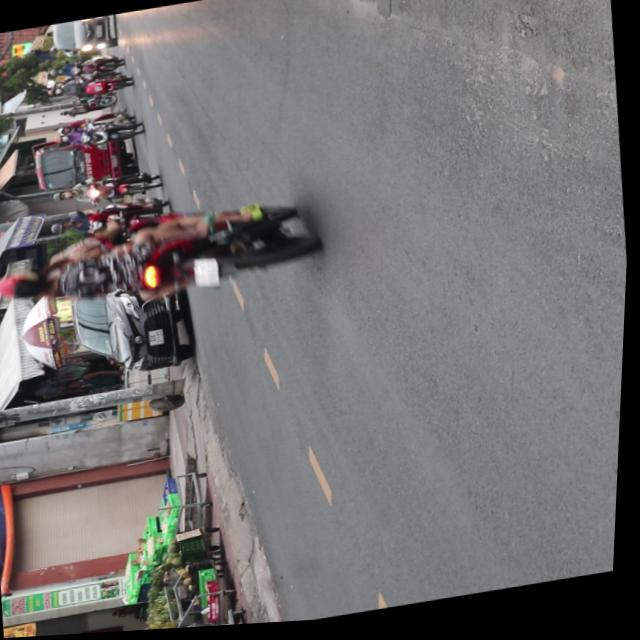helmet: (0, 266, 48, 302), (51, 221, 74, 235)
licenseplate: (0, 191, 325, 327), (49, 196, 174, 244)
motorcyclist: (11, 268, 61, 303)
nohelmet: (195, 257, 223, 290)
